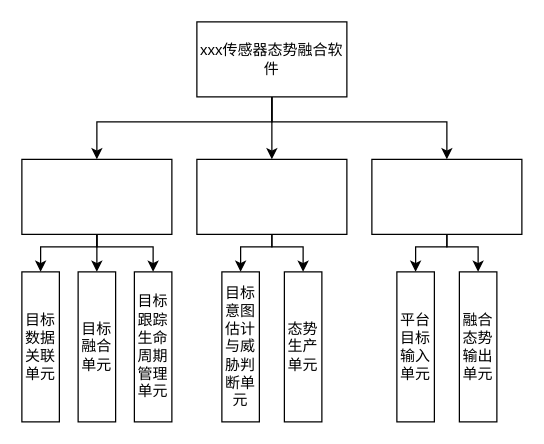
Image size: 544x444. Some labels were removed from this diagram. Each missing label, with the centre of its shape:
"基于多平台被动ZC传感器的TS融合软件模块" belongs at [96,196].
"目标威胁程度评估与TS生成软件模块" belongs at [271,196].
"通信模块" belongs at [446,196].
